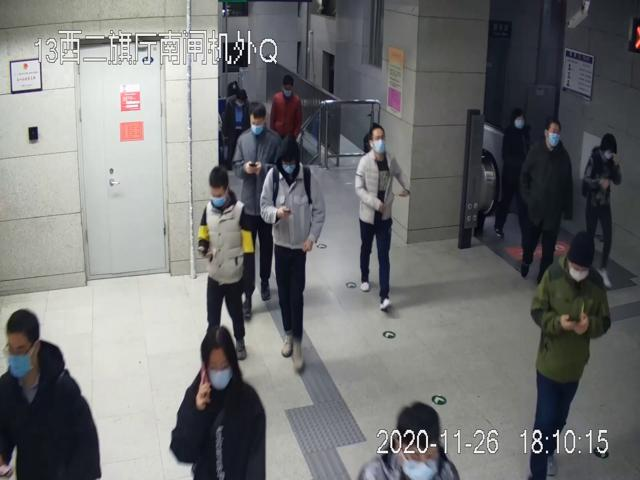person: (531, 230, 611, 480), (260, 134, 324, 371), (170, 326, 268, 480), (233, 100, 282, 319), (198, 166, 253, 360), (355, 122, 410, 308), (519, 116, 576, 283)
